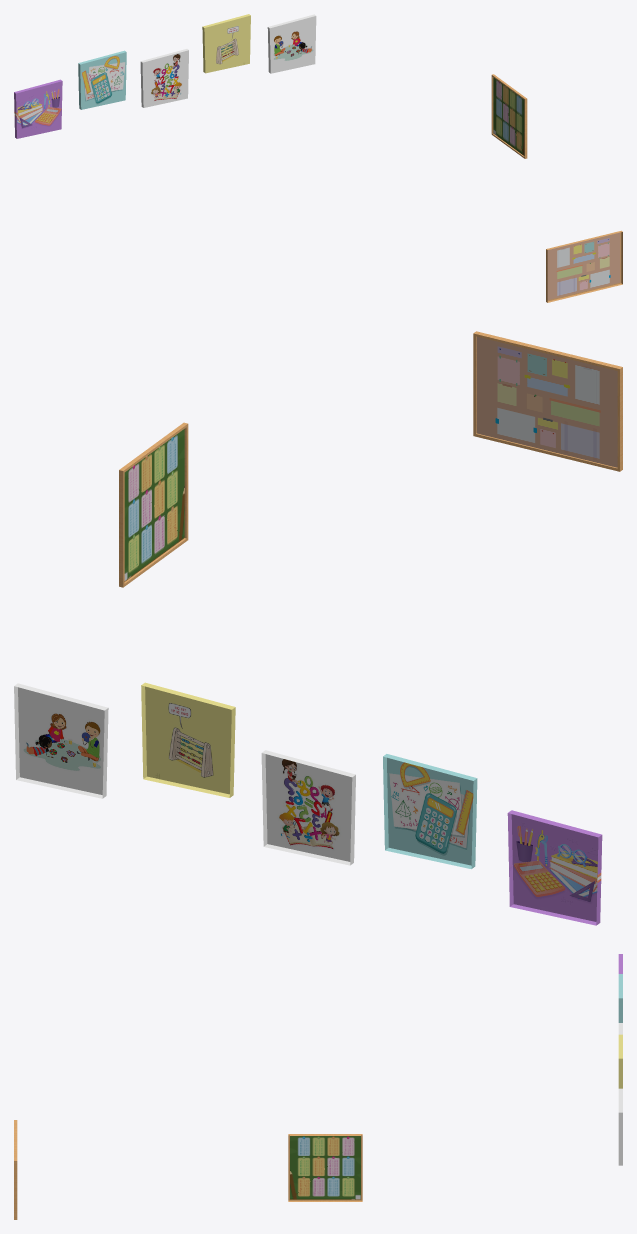
File: pic room.fbx
3 renders of one model, top to bottom at view 1: azimuth 30°, elevation 25°; view 2: azimuth 150°, elevation 25°; view 3: azimuth 270°, elevation 25°, orthographic. The views are drawn at different scales.
Visible parts, largest first — view 1: pic2, pPlane16, pPlane15, pPlane9, pPlane17, pPlane14, pic1; view 2: pic2, pPlane17, pPlane16, pPlane14, pPlane15, pPlane9, pic1; view 3: pic1, pic2, pPlane16.
Boxes of the visible parts, x1,y1,x2,y2 form: pic2: [546, 230, 622, 302]; pPlane16: [267, 14, 316, 73]; pPlane15: [202, 14, 250, 73]; pPlane9: [78, 50, 126, 109]; pPlane17: [14, 79, 62, 138]; pPlane14: [140, 49, 188, 107]; pic1: [491, 74, 527, 158]; pic2: [473, 331, 622, 471]; pPlane17: [507, 810, 602, 925]; pPlane16: [14, 683, 108, 798]; pPlane14: [261, 750, 355, 865]; pPlane15: [141, 682, 235, 797]; pPlane9: [383, 754, 477, 869]; pic1: [119, 422, 188, 587]; pic1: [288, 1134, 362, 1201]; pic2: [14, 1120, 17, 1219]; pPlane16: [618, 1088, 622, 1165].
Bounding box in the file's own units: 753 × 189 × 980.
4 materials, 4 textured.
